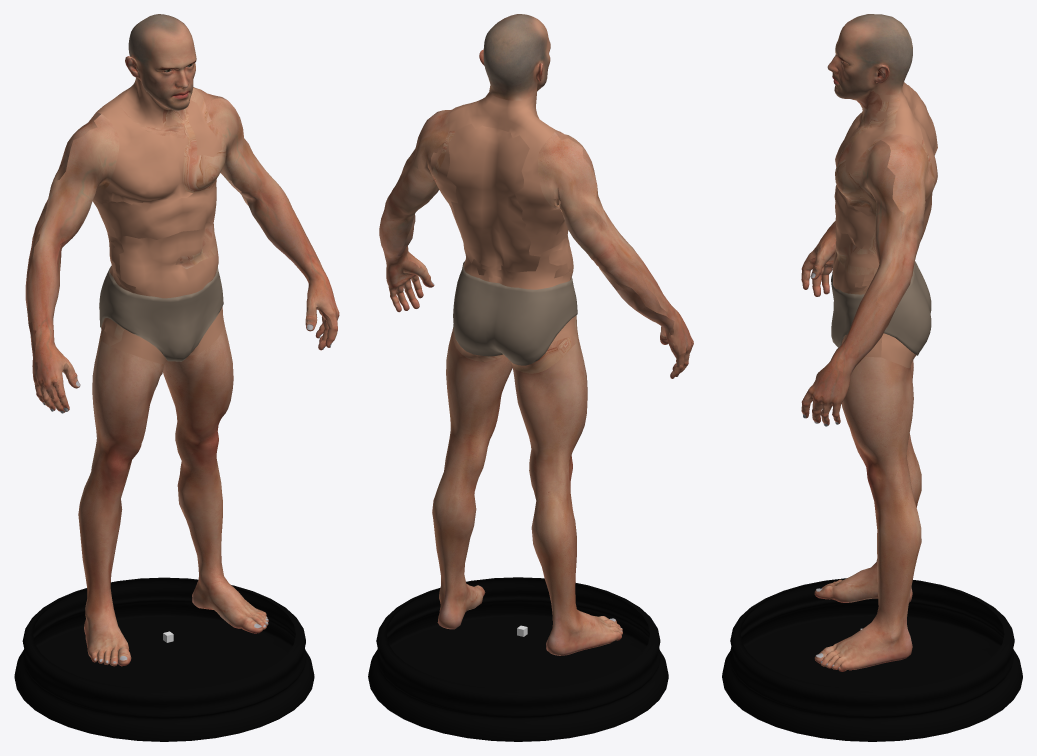
3 renders of one model, left to right at view 1: azimuth 30°, elevation 25°; view 2: azimuth 150°, elevation 25°; view 3: azimuth 270°, elevation 25°, orthographic.
Parts seen in each view (by area): view 1: Object_3, legs, left_arm.002, punsh.003, right_arm, punsh.004, Pelvis, Abdomen, Head, Object_12, left_arm.001, left_arm.003; view 2: Object_3, legs, back, Pelvis, left_arm.003, left_arm.001, punsh.003, Head, punsh.004, left_arm.002, Object_12, right_arm; view 3: Object_3, legs, left_arm.001, right_arm, Head, Object_12, Pelvis, punsh.003, punsh.004, Abdomen, back, left_arm.002.
Part boxes in pixels (left/top/right/bottom): Object_3: left=14, top=577, right=314, bottom=741; legs: left=78, top=322, right=268, bottom=666; left_arm.002: left=27, top=114, right=119, bottom=408; punsh.003: left=92, top=83, right=222, bottom=329; right_arm: left=206, top=98, right=339, bottom=347; punsh.004: left=93, top=184, right=224, bottom=364; Pelvis: left=99, top=266, right=223, bottom=361; Abdomen: left=117, top=222, right=218, bottom=298; Head: left=125, top=14, right=196, bottom=110; Object_12: left=99, top=88, right=226, bottom=346; left_arm.001: left=30, top=90, right=336, bottom=412; left_arm.003: left=25, top=112, right=100, bottom=404; Object_3: left=368, top=577, right=668, bottom=741; legs: left=432, top=331, right=622, bottom=655; back: left=447, top=124, right=540, bottom=272; Pelvis: left=453, top=261, right=577, bottom=365; left_arm.003: left=537, top=132, right=693, bottom=373; left_arm.001: left=379, top=108, right=692, bottom=378; punsh.003: left=436, top=87, right=570, bottom=362; Head: left=479, top=14, right=550, bottom=100; punsh.004: left=450, top=205, right=578, bottom=361; left_arm.002: left=555, top=131, right=693, bottom=350; Object_12: left=432, top=130, right=577, bottom=373; right_arm: left=397, top=142, right=443, bottom=306; Object_3: left=722, top=578, right=1022, bottom=741; legs: left=814, top=356, right=921, bottom=671; left_arm.001: left=801, top=133, right=931, bottom=425; right_arm: left=801, top=140, right=932, bottom=422; Head: left=827, top=14, right=912, bottom=100; Object_12: left=835, top=91, right=934, bottom=294; Pelvis: left=831, top=261, right=931, bottom=355; punsh.003: left=835, top=82, right=936, bottom=368; punsh.004: left=834, top=185, right=912, bottom=357; Abdomen: left=833, top=225, right=873, bottom=293; back: left=914, top=100, right=937, bottom=241; left_arm.002: left=801, top=221, right=836, bottom=295.
Bounding box in the file's own units: 88.22 × 187 × 76.87.
10 materials, 8 textured.
